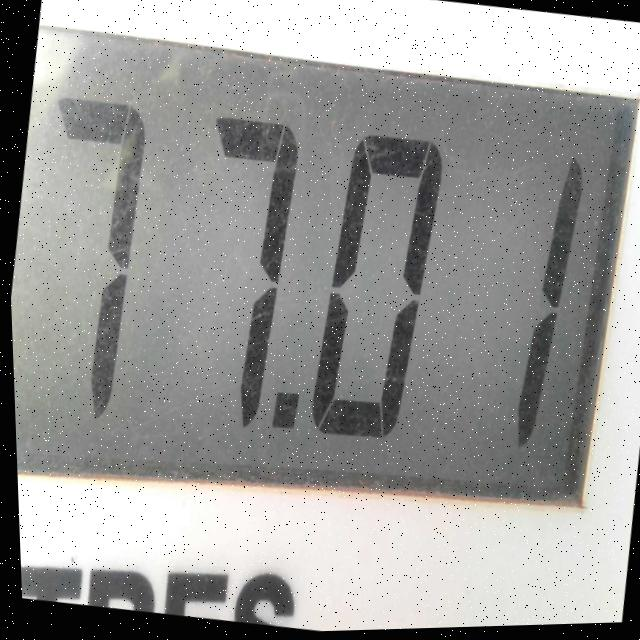.: (248, 365, 315, 461)
0: (275, 103, 463, 475)
7: (2, 69, 180, 434), (148, 103, 317, 451)
